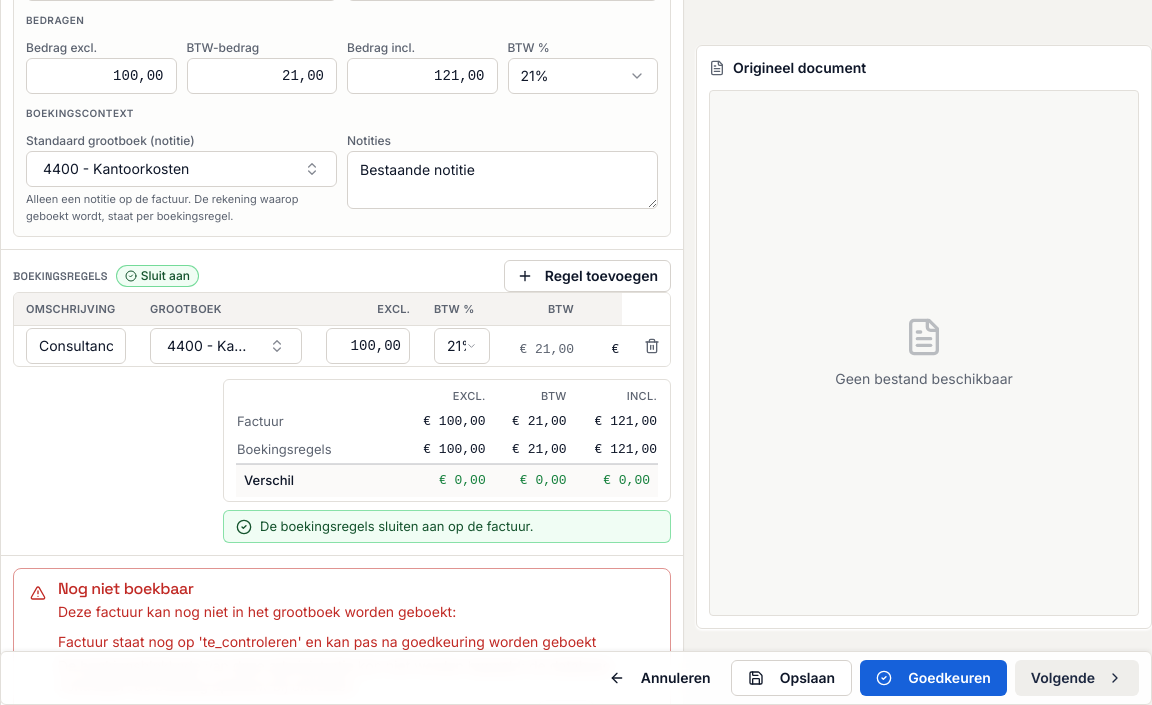
Test case: PurchaseInvoiceWorkspace — factuurgegevens & boekingsregels › 12. regel verwijderen verwijdert de regel (zonder bevestiging)
The width and height of the screenshot is (1152, 705).
(page scrolled)
Click the button named "Regel verwijderen" at coordinates (652, 346), box [634, 328, 670, 364]
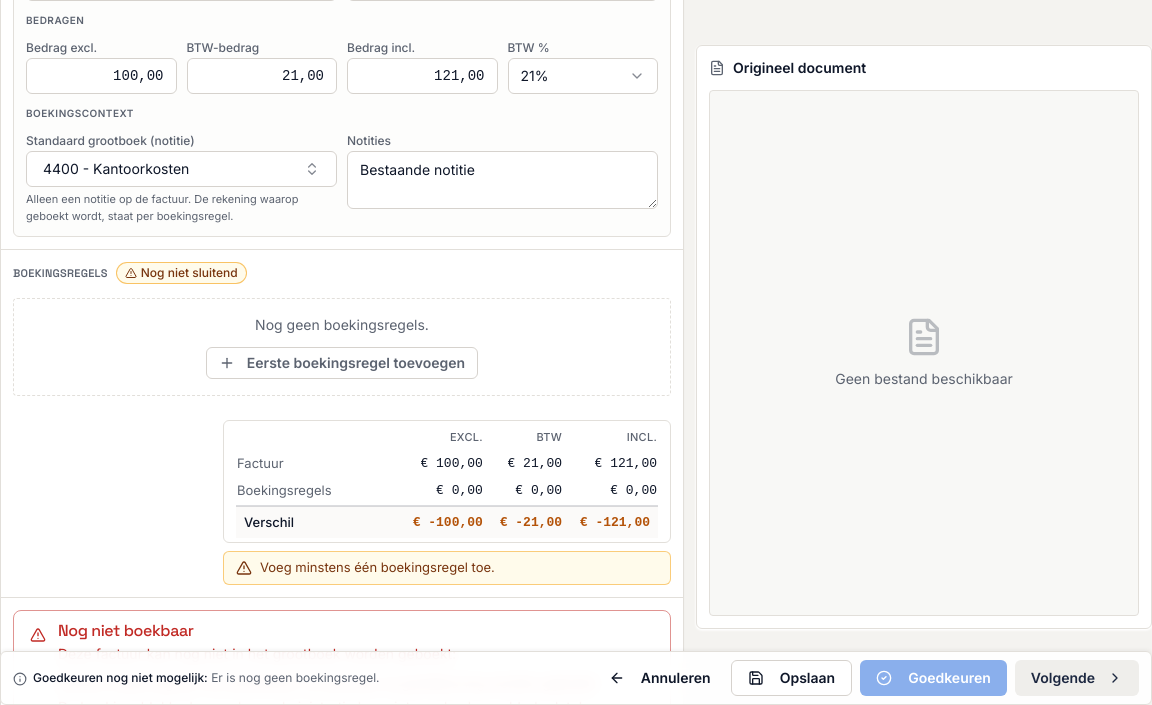
Expected: the field showing "Consultancy" is not shown
Expected: the text "Nog geen boekingsregels." is shown, [255, 316, 429, 333]
Expected: the button "Eerste boekingsregel toevoegen" is shown, [206, 347, 478, 379]
